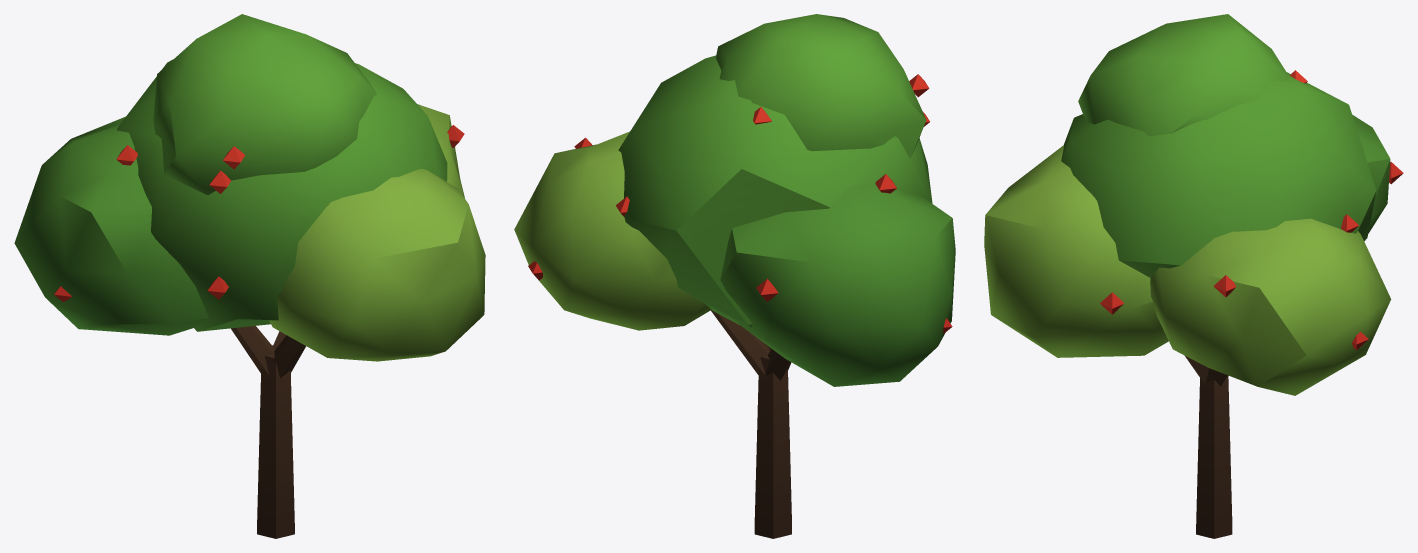
The model's file is AppleTree.fbx.
3 renders of one model, left to right at view 1: azimuth 30°, elevation 25°; view 2: azimuth 150°, elevation 25°; view 3: azimuth 270°, elevation 25°, orthographic. The views are drawn at different scales.
Visible parts, largest first — view 1: AppleTree_LOD0; view 2: AppleTree_LOD0; view 3: AppleTree_LOD0.
Part boxes in pixels (box(x1,y1,x2,y2)): AppleTree_LOD0: box(14, 14, 485, 538); AppleTree_LOD0: box(514, 14, 955, 538); AppleTree_LOD0: box(984, 14, 1403, 538).
Size of what is drawn, in the model's own units: 5.42 by 6.3 by 4.9.
1 material, 1 textured.
